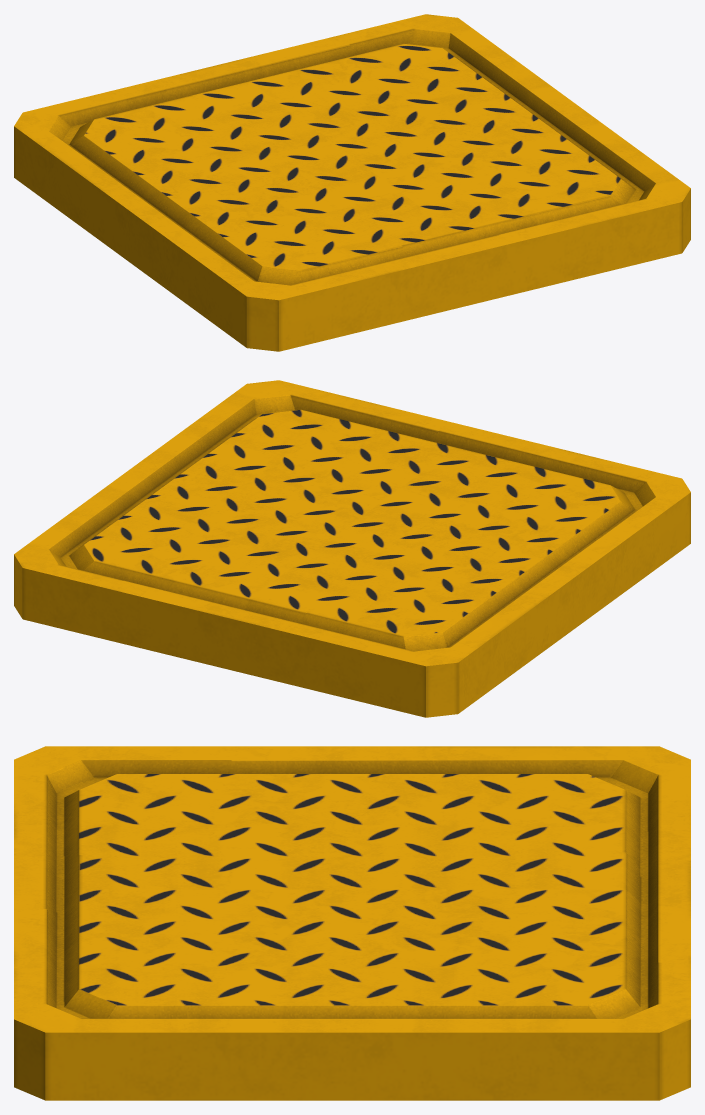
The model's file is squaretile2 (5).fbx.
3 renders of one model, top to bottom at view 1: azimuth 30°, elevation 25°; view 2: azimuth 150°, elevation 25°; view 3: azimuth 270°, elevation 25°, orthographic. The views are drawn at different scales.
Visible parts, largest first — view 1: Cube; view 2: Cube; view 3: Cube.
Boxes of the visible parts, x1=… form: Cube: x1=14, y1=14, x2=690, y2=351; Cube: x1=14, y1=380, x2=690, y2=717; Cube: x1=14, y1=746, x2=690, y2=1100.
Bounding box in the file's own units: 200 × 22.15 × 200.
1 material, 1 textured.
